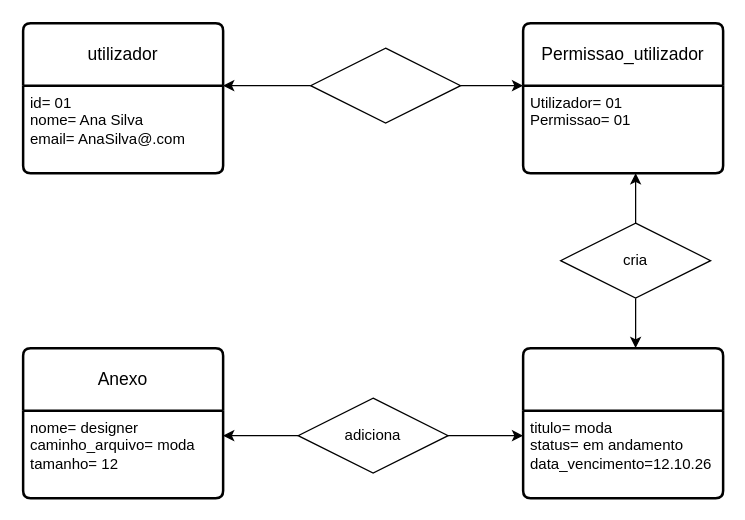
Image size: 745x520. Some labels were removed from this diagram. The shapes that lost their labels are listed below. From the top down, each one's box as (x1, y1, x2, y2) in pixels, then its label:
(309, 47, 461, 123): permite
(521, 346, 724, 499): Tarefa
